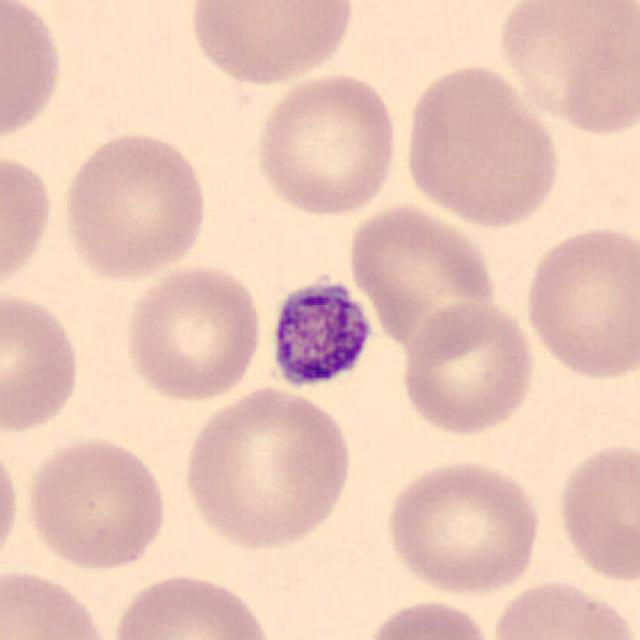Platelets: (263, 273, 377, 395)
RBC: (178, 382, 357, 554), (398, 60, 566, 231), (343, 198, 500, 354), (57, 127, 213, 284), (380, 455, 546, 598), (249, 69, 403, 220), (21, 432, 171, 575), (119, 261, 267, 404), (396, 298, 540, 439), (492, 0, 638, 139), (521, 220, 638, 384), (185, 0, 359, 88), (551, 436, 638, 587), (0, 287, 85, 437), (107, 569, 277, 640), (0, 0, 68, 150), (488, 576, 636, 640), (0, 562, 117, 639), (0, 148, 57, 298), (359, 596, 498, 640), (0, 432, 25, 578)
